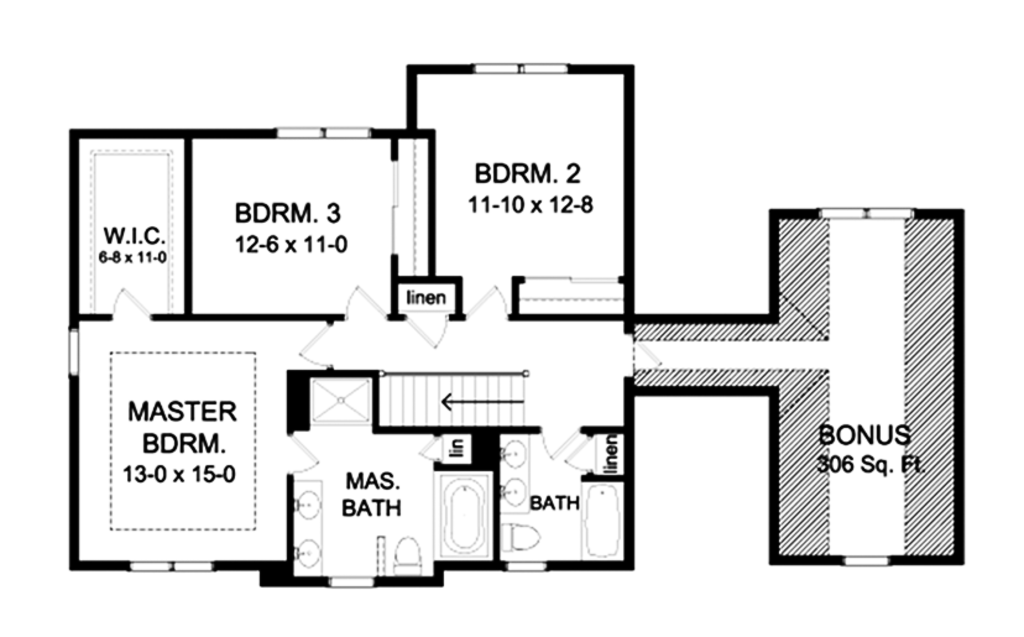door: (298, 316, 340, 372), (404, 313, 453, 353), (106, 287, 154, 325), (286, 429, 323, 478), (340, 284, 389, 319), (465, 285, 509, 323), (542, 426, 583, 461)
large_sink: (499, 515, 547, 555), (386, 535, 432, 576)
small_sink: (290, 479, 326, 574), (498, 434, 531, 512)
stairs: (371, 370, 541, 434)
tub: (433, 471, 495, 559), (580, 483, 624, 562)
window: (468, 59, 577, 80), (122, 557, 216, 578), (272, 124, 370, 142), (817, 205, 915, 222), (64, 324, 84, 384), (325, 573, 375, 587), (839, 554, 892, 567), (503, 562, 548, 572)
